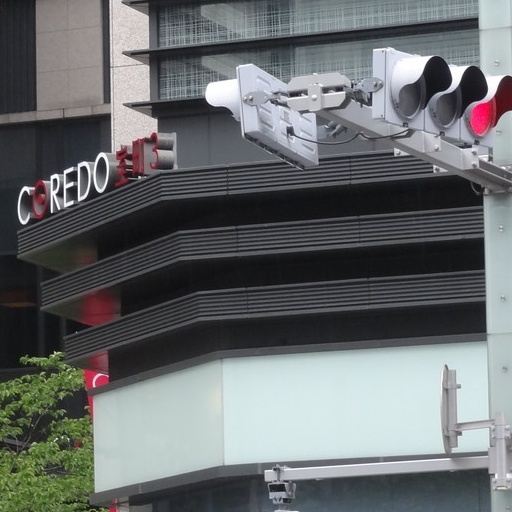Traffic_Signal_Red: (375, 49, 508, 160)
